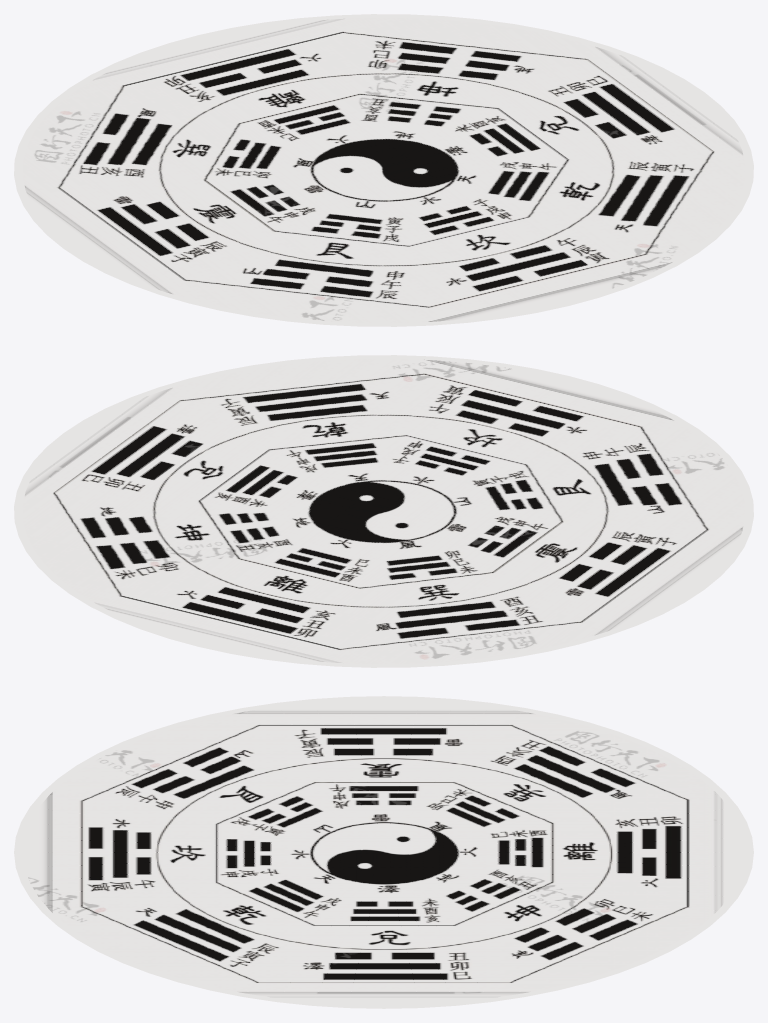
Rendered from iching_floor_pattern.glb.
The picture shows the model from 3 angles, top to bottom: view 1: azimuth 30°, elevation 25°; view 2: azimuth 150°, elevation 25°; view 3: azimuth 270°, elevation 25°; orthographic projection.
Visible parts, largest first — view 1: iching_floor_pattern; view 2: iching_floor_pattern; view 3: iching_floor_pattern.
Part boxes in pixels (box(x1,y1,x2,y2)): iching_floor_pattern: box(14, 14, 753, 326); iching_floor_pattern: box(14, 355, 753, 667); iching_floor_pattern: box(14, 696, 753, 1008).
Size of the model in its own units: 5.08 by 0.002 by 5.08.
Materials: 1 (1 with a texture image).
